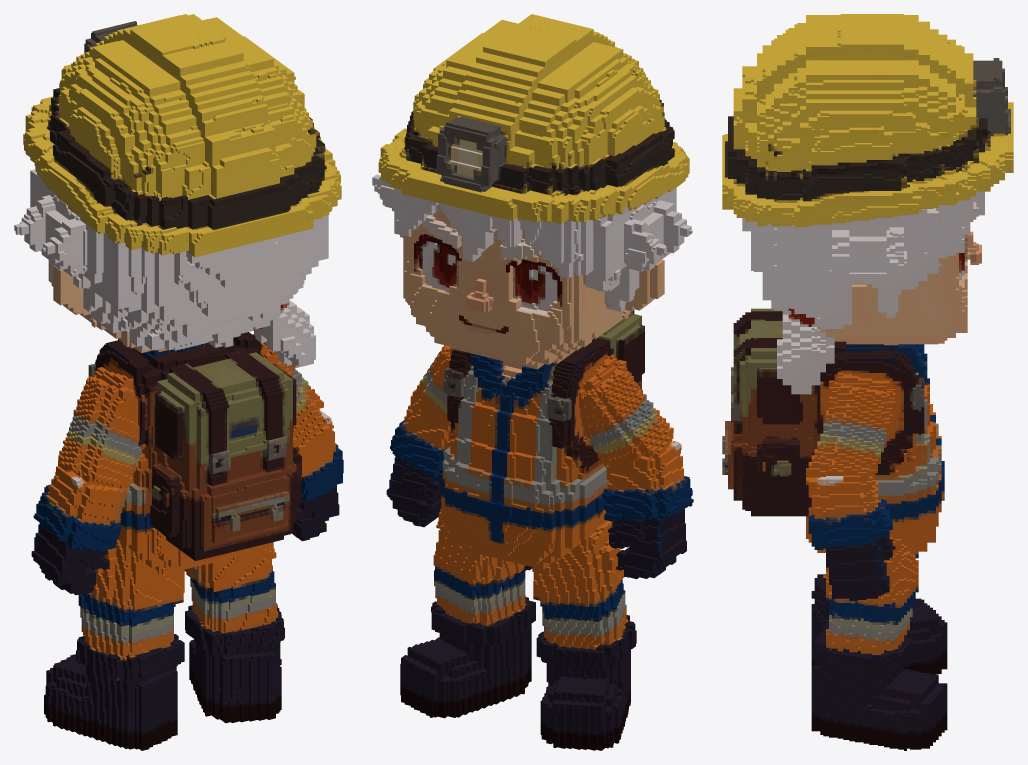
The model's file is char_02_baimao.glb.
3 renders of one model, left to right at view 1: azimuth 30°, elevation 25°; view 2: azimuth 150°, elevation 25°; view 3: azimuth 270°, elevation 25°, orthographic. The views are drawn at different scales.
Visible parts, largest first — view 1: voxel_character; view 2: voxel_character; view 3: voxel_character.
Part boxes in pixels (x1=…): voxel_character: x1=14, y1=14, x2=343, y2=750; voxel_character: x1=372, y1=14, x2=693, y2=750; voxel_character: x1=722, y1=14, x2=1013, y2=750.
Size of the model in its own units: 1.01 by 2.2 by 0.868.
